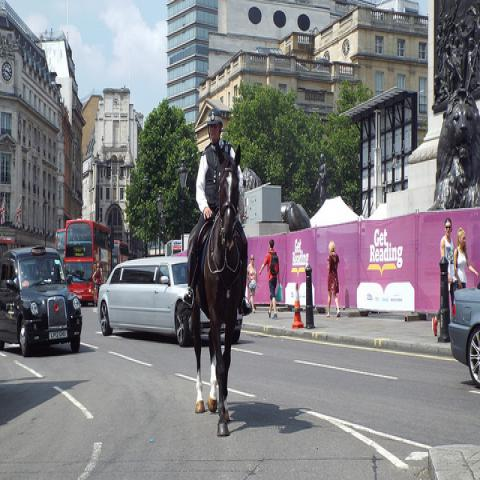bus: (63, 219, 111, 307), (112, 240, 128, 268), (53, 224, 65, 260)
car: (1, 244, 82, 354), (97, 259, 194, 350), (449, 282, 479, 394)
